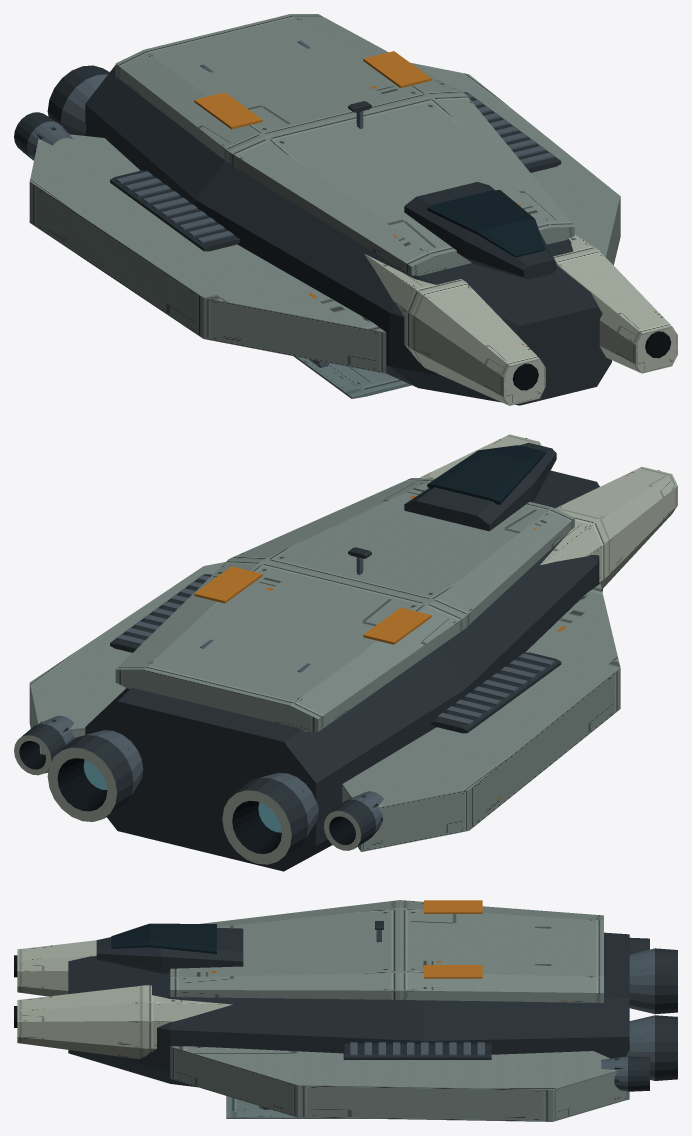
Rendered from bomber-high.glb.
3 views of the same model, one above another, from view 1: azimuth 30°, elevation 25°; view 2: azimuth 150°, elevation 25°; view 3: azimuth 270°, elevation 25° (orthographic). The views are drawn at different scales.
Visible parts, largest first — view 1: AV_bomber-high; view 2: AV_bomber-high; view 3: AV_bomber-high.
Part boxes in pixels (<box>): AV_bomber-high: <box>14,14,677,405</box>; AV_bomber-high: <box>14,434,677,871</box>; AV_bomber-high: <box>14,900,677,1121</box>.
Bounding box in the file's own units: 1.15 × 0.4975 × 1.91.
Materials: 1 (1 with a texture image).
